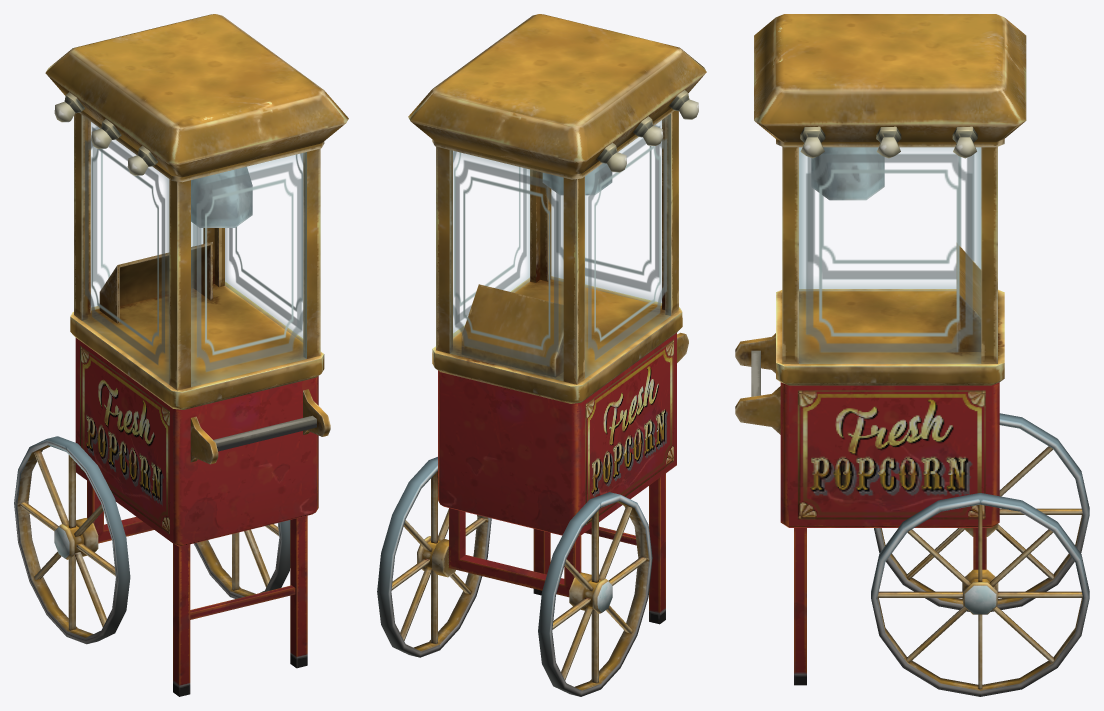
Rendered from popcorn_machine.gltf.
The picture shows the model from 3 angles, left to right: view 1: azimuth 30°, elevation 25°; view 2: azimuth 150°, elevation 25°; view 3: azimuth 270°, elevation 25°; orthographic projection. The views are drawn at different scales.
Parts seen in each view (by area): view 1: SM_Cart_01, SM_Cart_05, SM_Cart_03, SM_Cart_02, SM_Cart_04; view 2: SM_Cart_01, SM_Cart_03, SM_Cart_05, SM_Cart_04; view 3: SM_Cart_01, SM_Cart_05, SM_Cart_03, SM_Cart_02, SM_Cart_04.
Part boxes in pixels (box(x1,y1,x2,y2)): SM_Cart_01: box(45, 14, 348, 696); SM_Cart_05: box(81, 115, 306, 386); SM_Cart_03: box(14, 436, 290, 644); SM_Cart_02: box(190, 389, 330, 464); SM_Cart_04: box(54, 92, 157, 175); SM_Cart_01: box(408, 14, 706, 624); SM_Cart_03: box(377, 457, 652, 696); SM_Cart_05: box(449, 114, 670, 380); SM_Cart_04: box(597, 90, 698, 172); SM_Cart_01: box(754, 14, 1026, 685); SM_Cart_05: box(799, 147, 981, 363); SM_Cart_03: box(871, 413, 1089, 696); SM_Cart_02: box(735, 333, 780, 434); SM_Cart_04: box(800, 126, 977, 158).
Size of the model in its own units: 0.5761 by 1.52 by 0.81.
2 materials, 2 textured.
